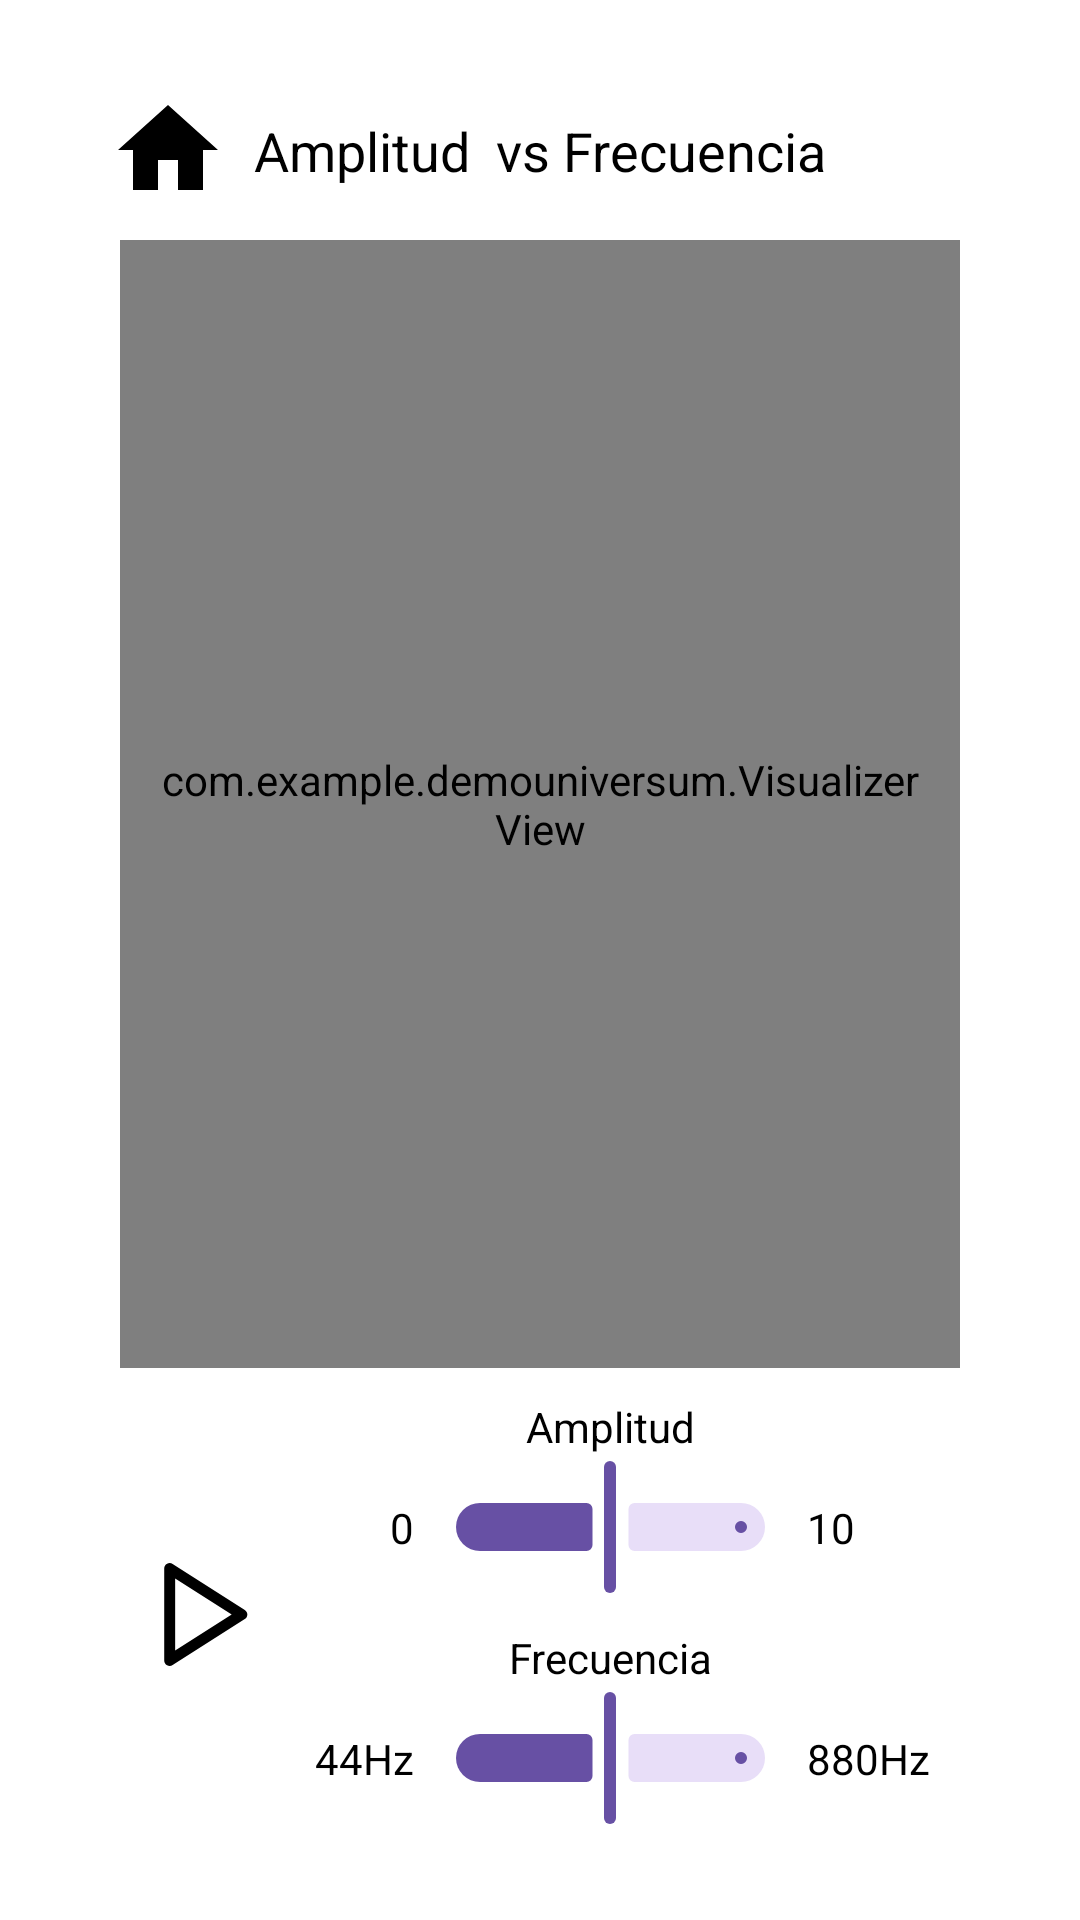

Named icons in this screenshot (1080px x 1920px) and their bounding boxes, (x1=x1, y1=y1, x2=x2, y2=y2):
Reproducir o pausar: (x1=164, y1=1563, x2=248, y2=1666)
Volver al inicio: (x1=118, y1=105, x2=218, y2=190)
